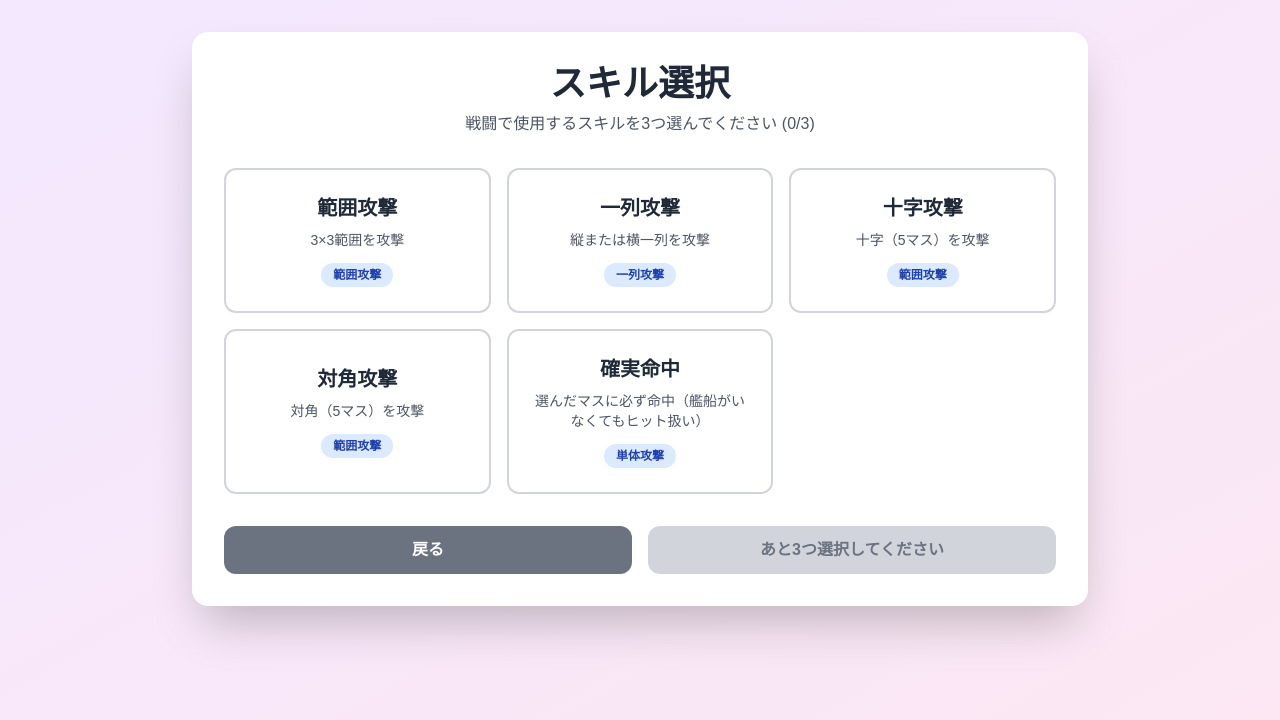
SkillSelectPage › displays selection count correctly
Check: the text "戦闘で使用するスキルを3つ選んでください (0/3)" is shown, box 465,115 -> 815,132
Step 1. Click the button "範囲攻撃 3×3範囲を攻撃 範囲攻撃" → [357, 240], box 224,168 -> 491,313
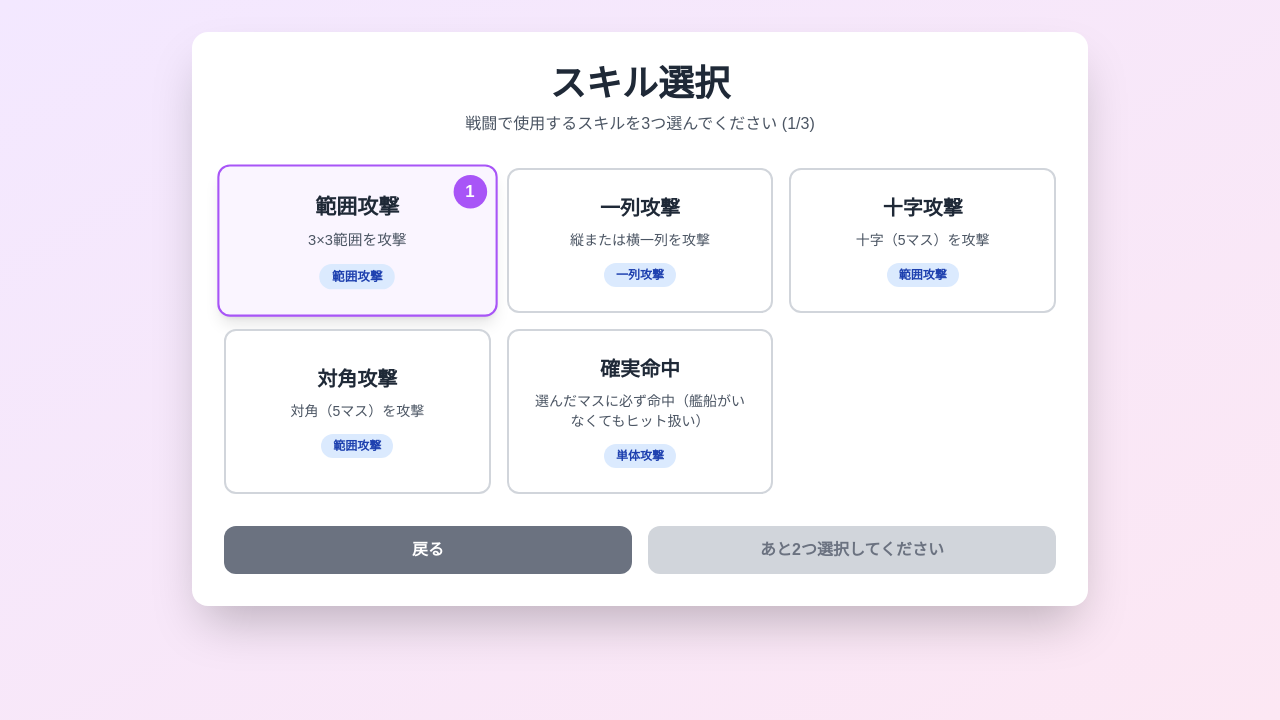
Check: the text "戦闘で使用するスキルを3つ選んでください (1/3)" is shown, box 465,115 -> 815,132
